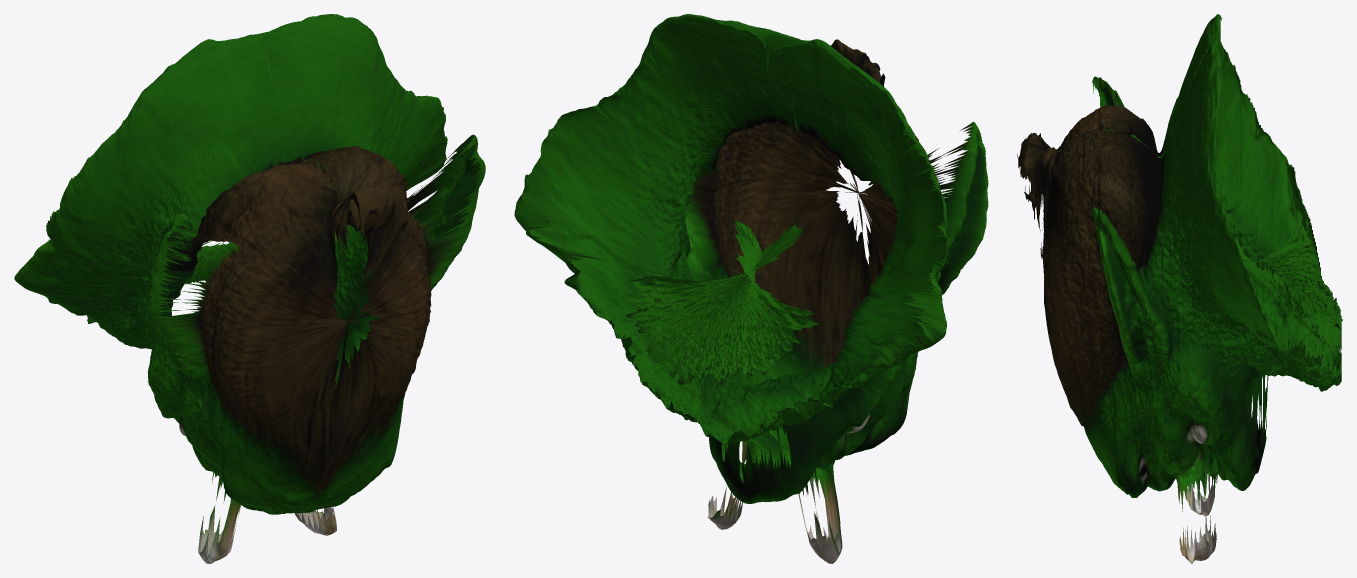
The picture shows the model from 3 angles, left to right: view 1: azimuth 30°, elevation 25°; view 2: azimuth 150°, elevation 25°; view 3: azimuth 270°, elevation 25°; orthographic projection. The views are drawn at different scales.
Parts seen in each view (by area): view 1: geometry_0; view 2: geometry_0; view 3: geometry_0.
Boxes of the visible parts, x1,y1,x2,y2 form: geometry_0: (14,14,485,563); geometry_0: (514,14,988,563); geometry_0: (1017,14,1342,563).
Size of the model in its own units: 1.43 by 1.66 by 0.9716.
1 material, 1 textured.
